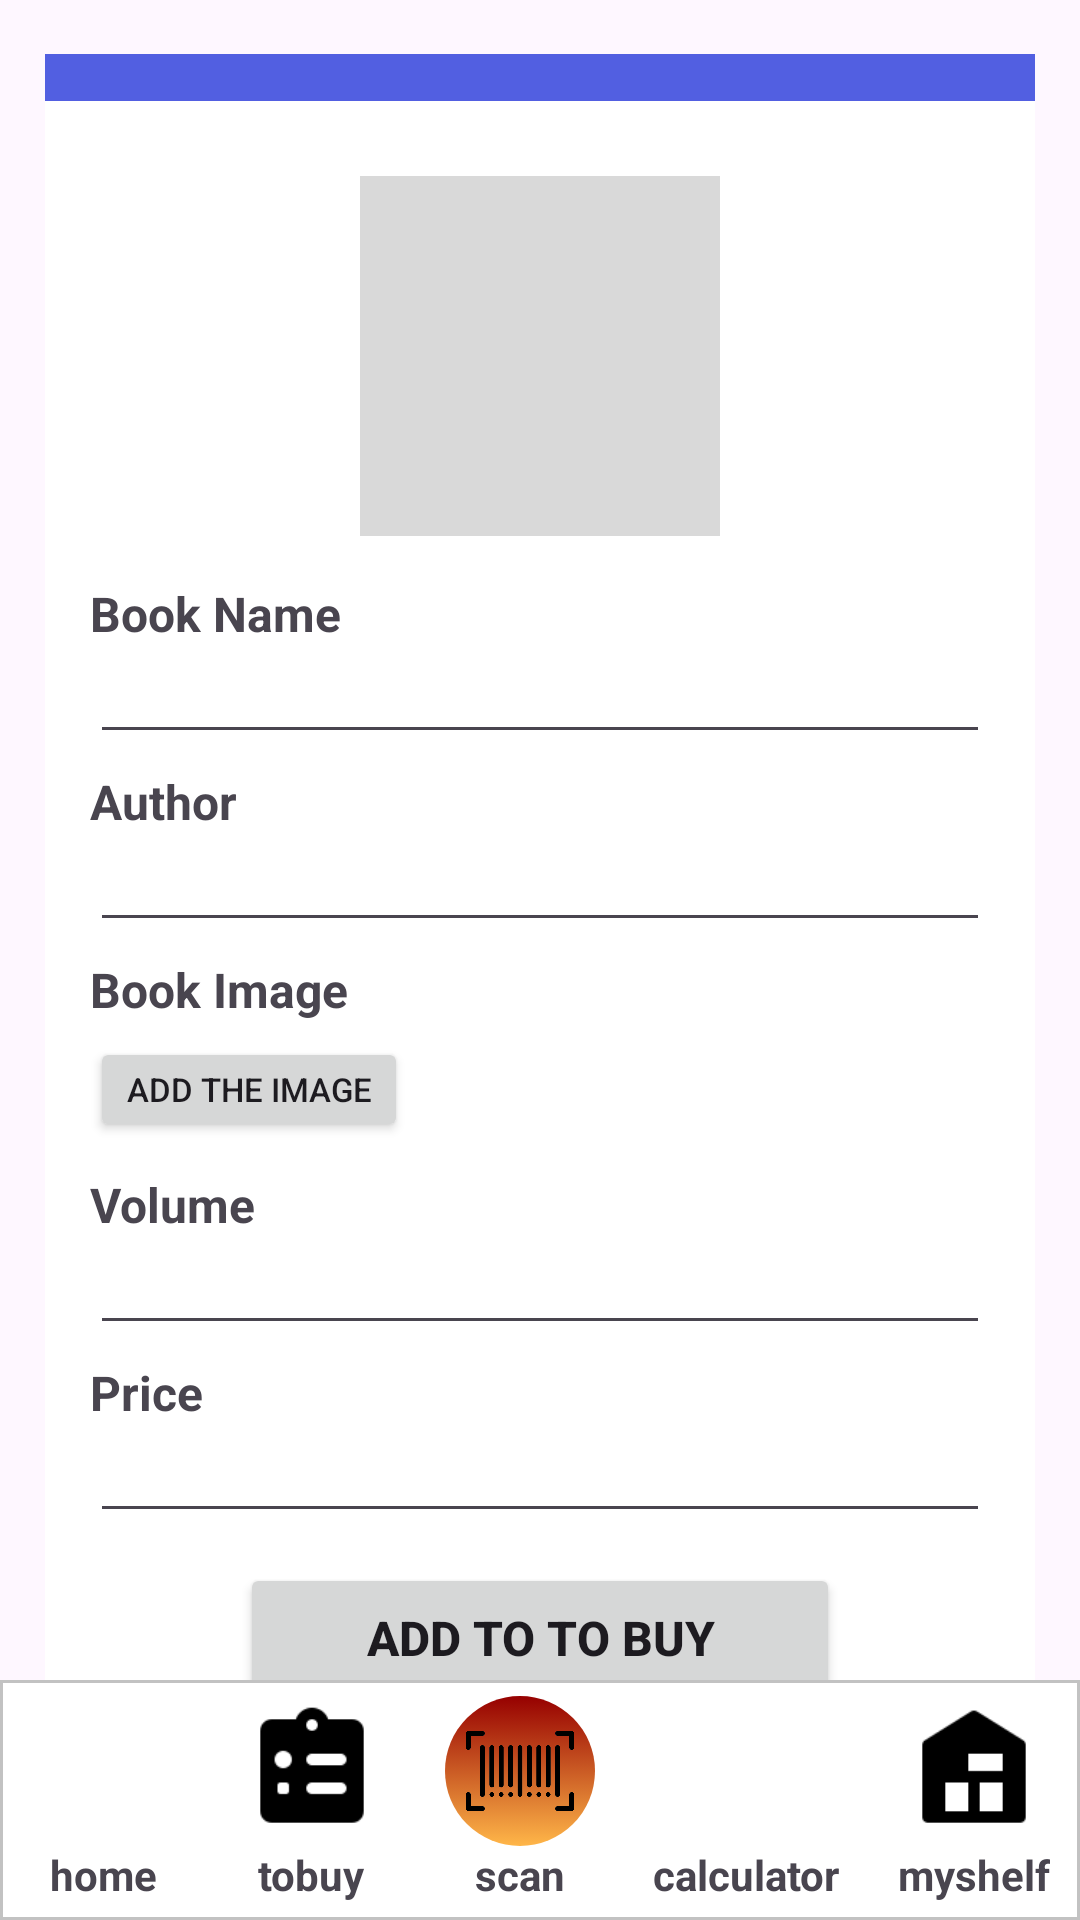

Named icons in this screenshot (1080px x 1920px) and their bounding boxes, (left=x1, top=y1, right=x2, bottom=y2):
barcode: (left=445, top=1696, right=595, bottom=1846)
